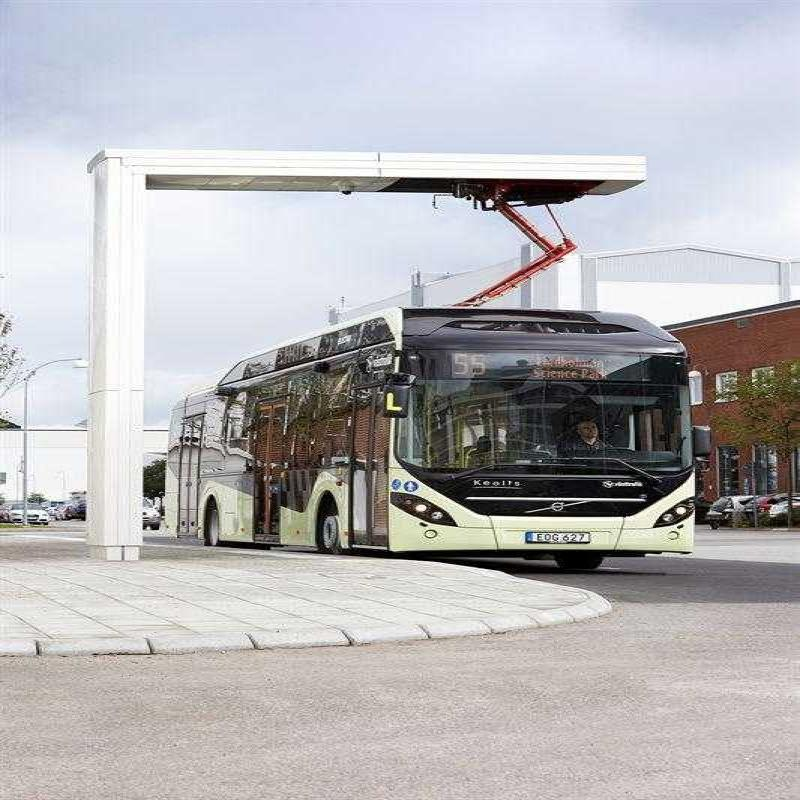bus: (181, 292, 712, 580)
